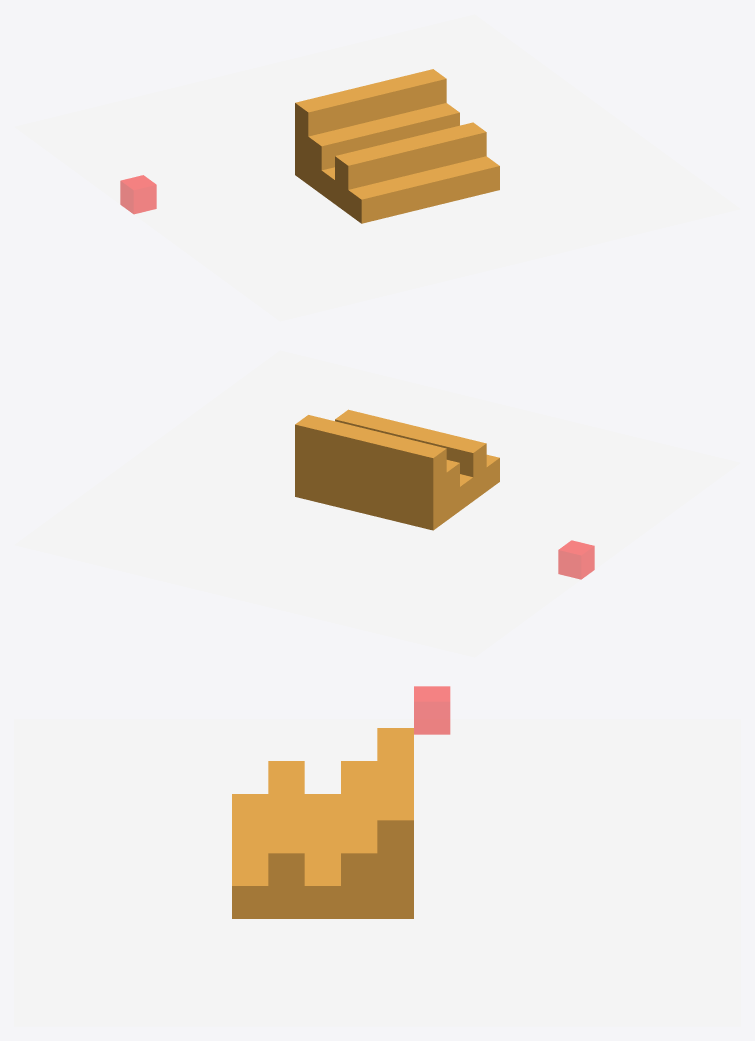
3 renders of one model, top to bottom at view 1: azimuth 30°, elevation 25°; view 2: azimuth 150°, elevation 25°; view 3: azimuth 270°, elevation 25°, orthographic. The views are drawn at different scales.
Bounding box in the file's own units: 1000 × 150 × 1000.
